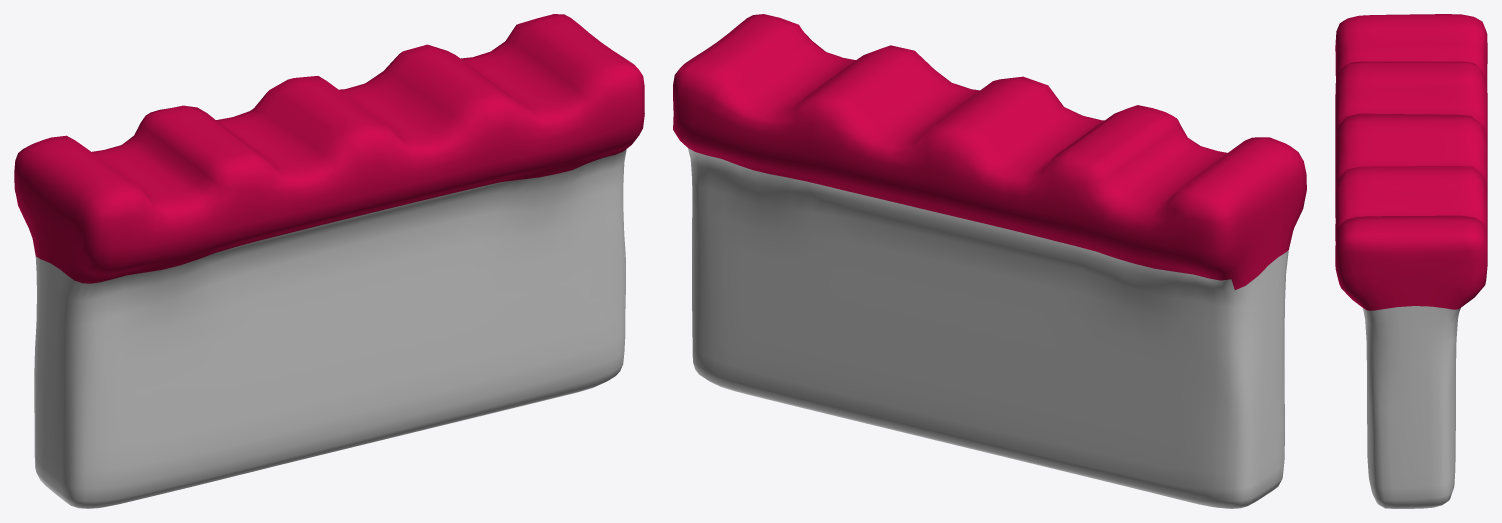
Rendered from casle_bridge.fbx.
The picture shows the model from 3 angles, left to right: view 1: azimuth 30°, elevation 25°; view 2: azimuth 150°, elevation 25°; view 3: azimuth 270°, elevation 25°; orthographic projection. The views are drawn at different scales.
Parts seen in each view (by area): view 1: Box002; view 2: Box002; view 3: Box002.
Boxes of the visible parts, bbox=[...] form: Box002: bbox=[14, 14, 644, 508]; Box002: bbox=[673, 14, 1306, 508]; Box002: bbox=[1335, 14, 1487, 508].
Size of the model in its own units: 120 by 33.49 by 68.73.
